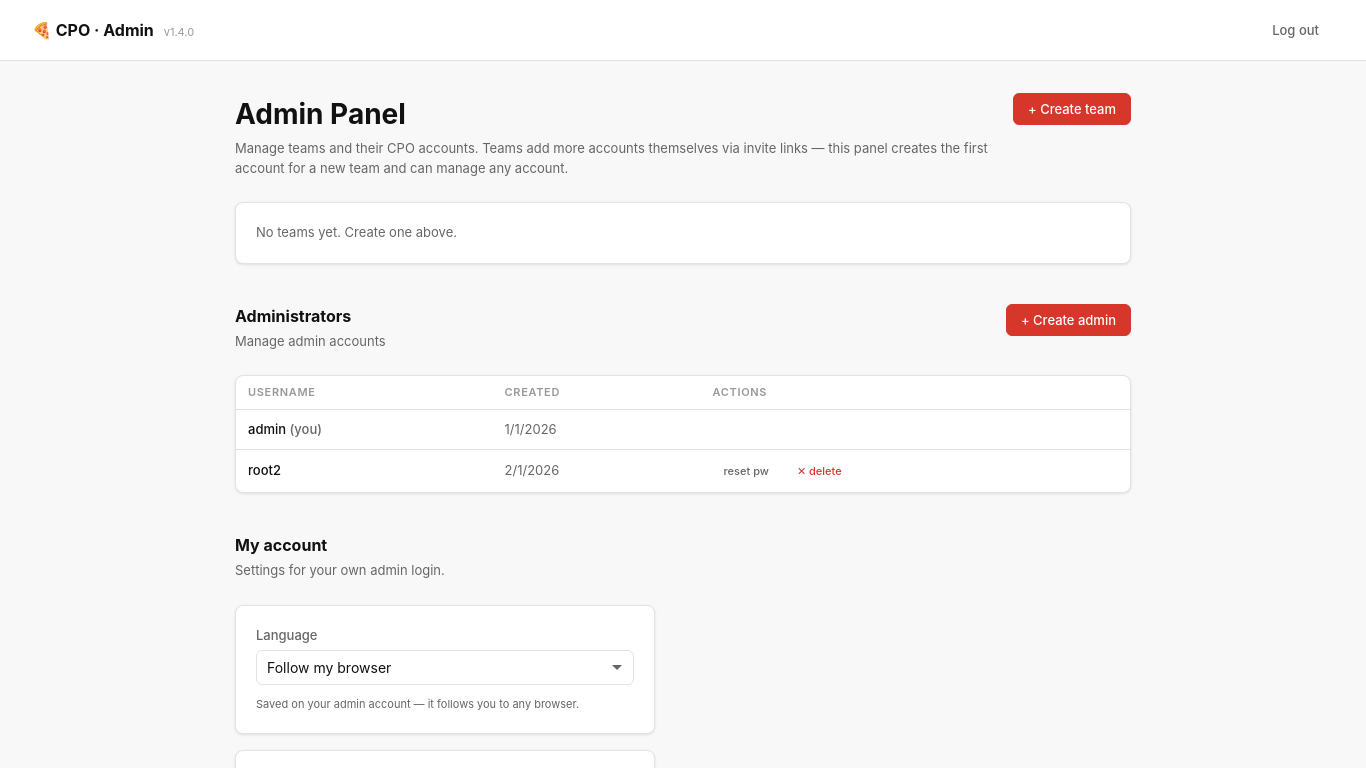
Test: AdminPanel › creating an admin › shows the server error on failed create
Click the button "+ Create admin" at coordinates (1068, 320), box [1006, 304, 1131, 336]
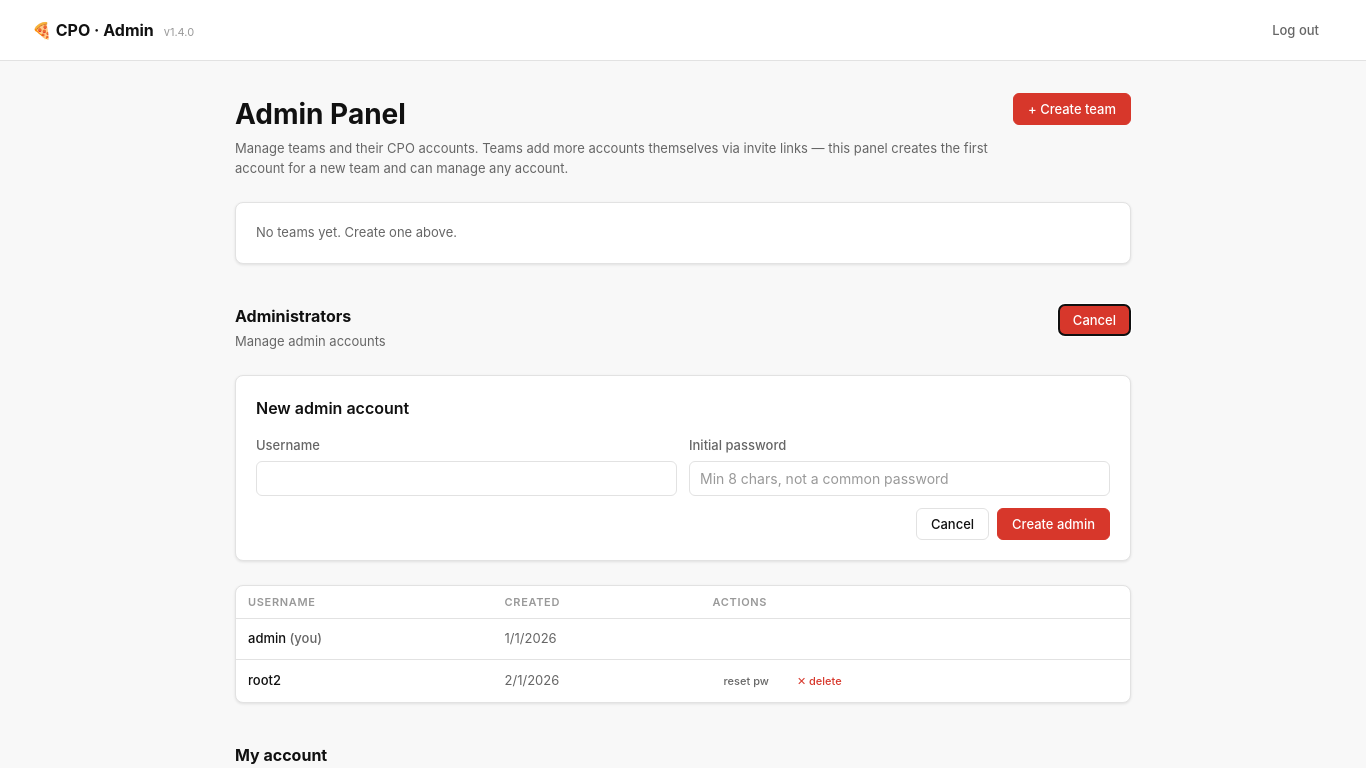
Type "admin" into the field labelled "Username" at coordinates (466, 478), box [256, 460, 677, 496]
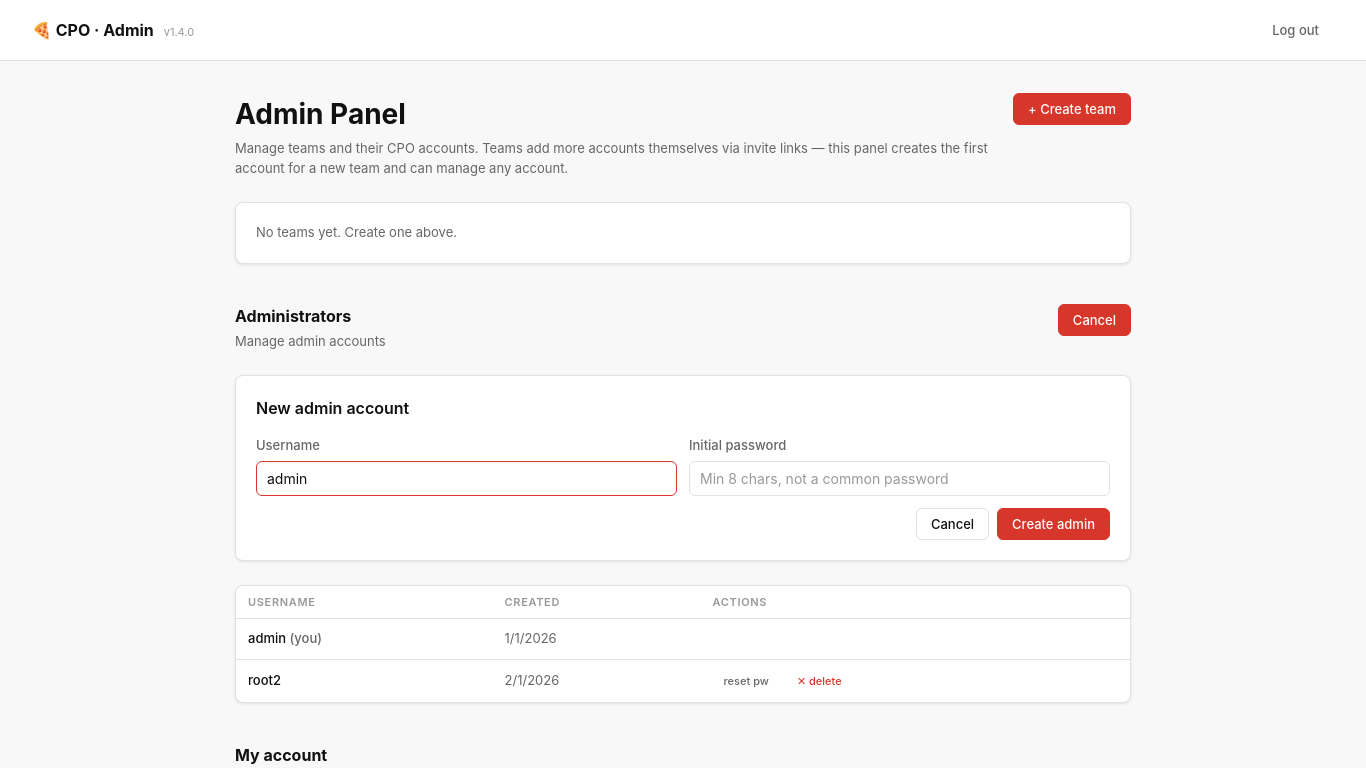
Type "secret123" into the password field labelled "Initial password" at coordinates (900, 478), box [689, 460, 1110, 496]
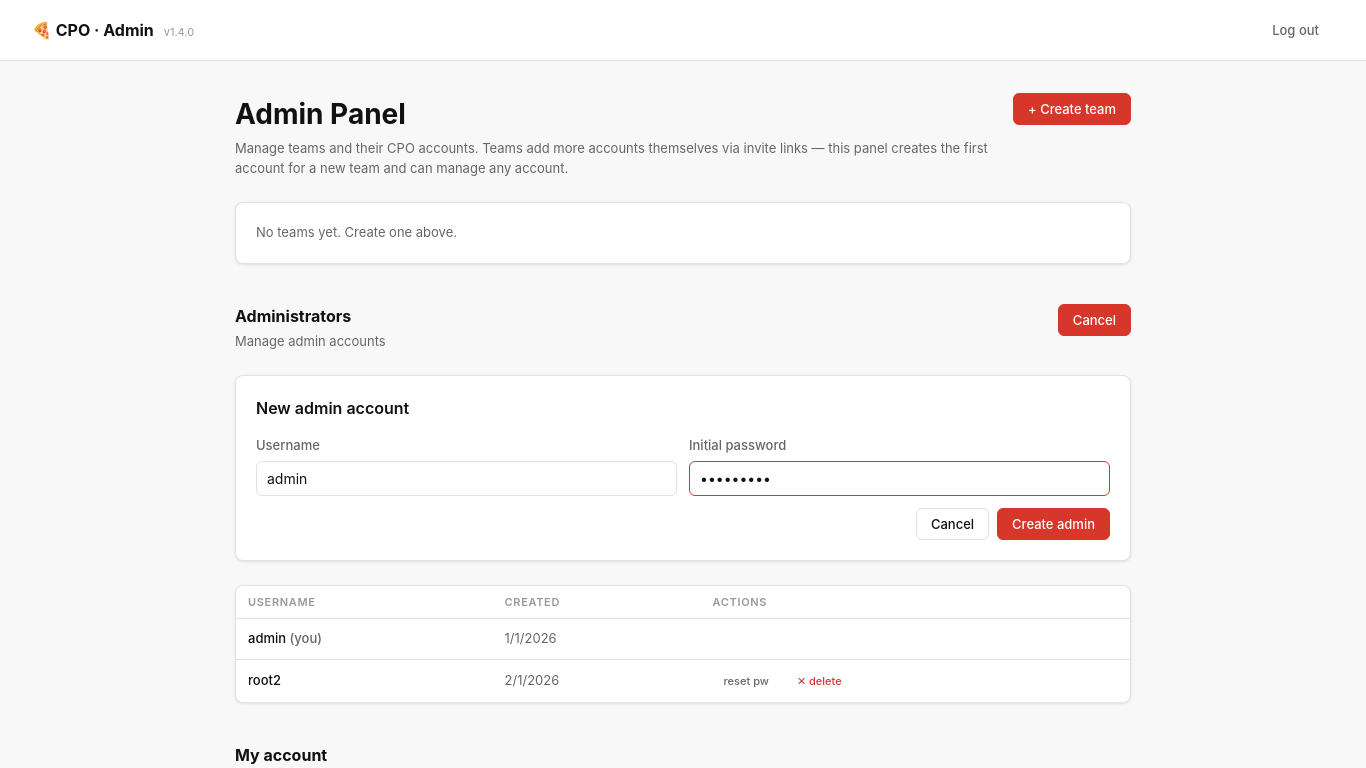
Click the button "Create admin" at coordinates (1054, 524), box [997, 508, 1110, 540]
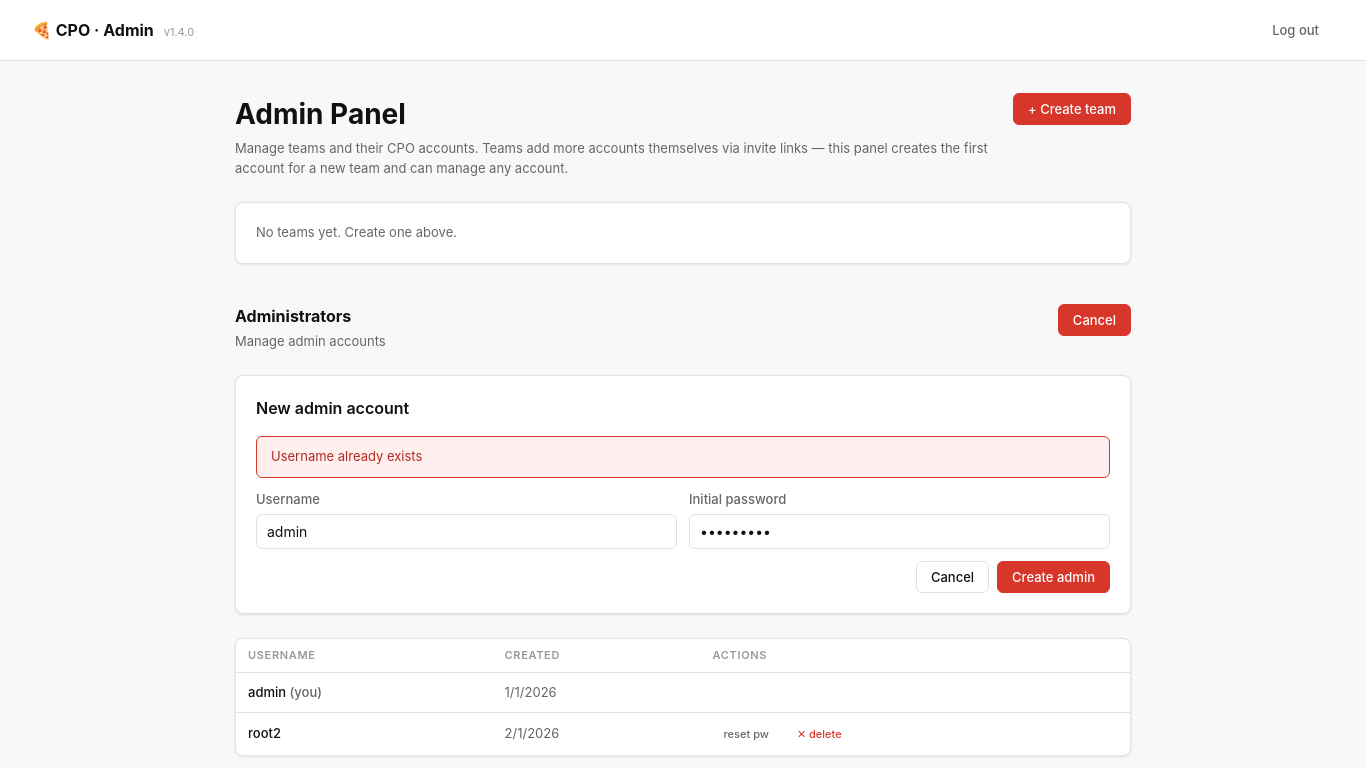
Check: the text "Username already exists" is shown, box [256, 436, 1110, 478]
